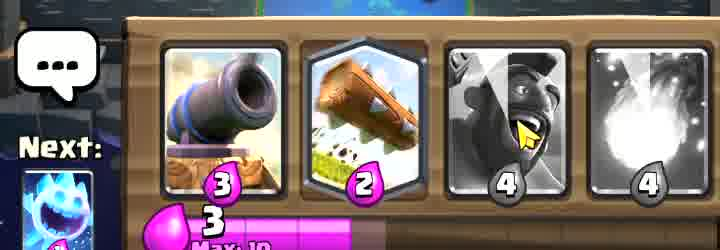fireball: (586, 54, 697, 195)
hog-rider: (444, 61, 526, 202)
ice-spirit: (25, 171, 93, 250)
log: (309, 42, 424, 194)
